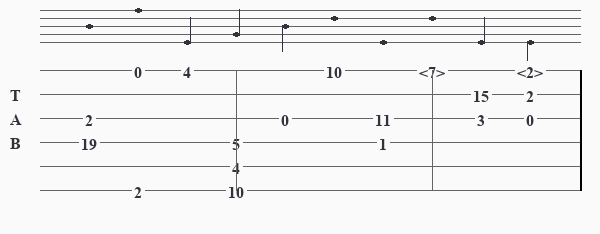0: (134, 63, 146, 78), (281, 111, 293, 126), (526, 111, 538, 126)
1: (379, 135, 391, 150)
10: (228, 183, 248, 198), (326, 63, 346, 78)
11: (375, 111, 395, 126)
15: (473, 87, 493, 102)
19: (81, 135, 101, 150)
2: (85, 111, 97, 126), (134, 183, 146, 198), (526, 87, 538, 102)
3: (477, 111, 489, 126)
4: (183, 63, 195, 78), (232, 159, 244, 174)
5: (232, 135, 244, 150)
harmonic: (419, 63, 449, 78), (517, 63, 547, 78)
